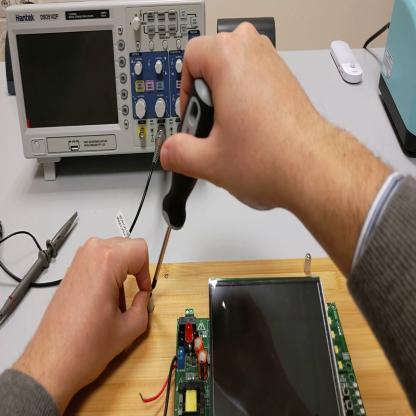hand: (164, 26, 314, 216), (40, 232, 154, 391)
low voltage board: (139, 280, 367, 414)
oscilloscope: (5, 1, 206, 179)
oscilloscope probe tip: (1, 213, 77, 326)
screwdriver-: (153, 79, 216, 290)
socket: (6, 32, 17, 98)
welder station: (378, 5, 416, 156)
working area: (65, 258, 413, 414)
